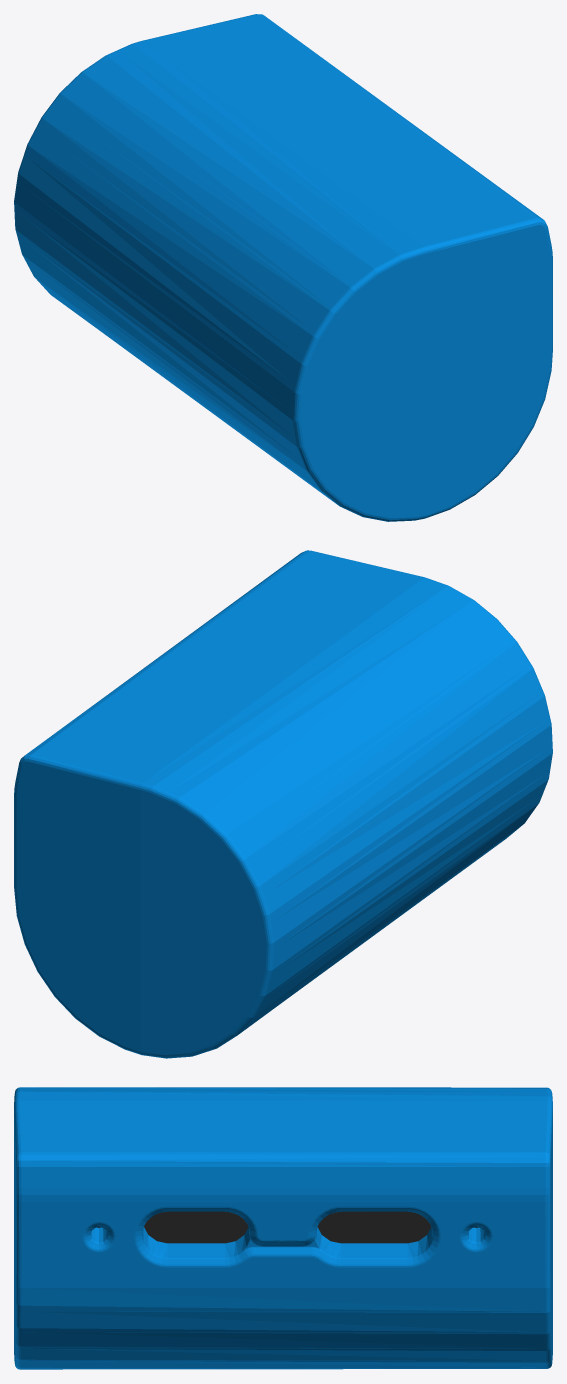
The picture shows the model from 3 angles, top to bottom: view 1: azimuth 30°, elevation 25°; view 2: azimuth 150°, elevation 25°; view 3: azimuth 270°, elevation 25°; orthographic projection. The views are drawn at different scales.
Parts seen in each view (by area): view 1: 5; view 2: 5; view 3: 5.
Part boxes in pixels (<box>): 5: <box>14,14,552,521</box>; 5: <box>14,550,552,1058</box>; 5: <box>14,1087,552,1369</box>.
Bounding box in the file's own units: 0.1099 × 0.11 × 0.21.
